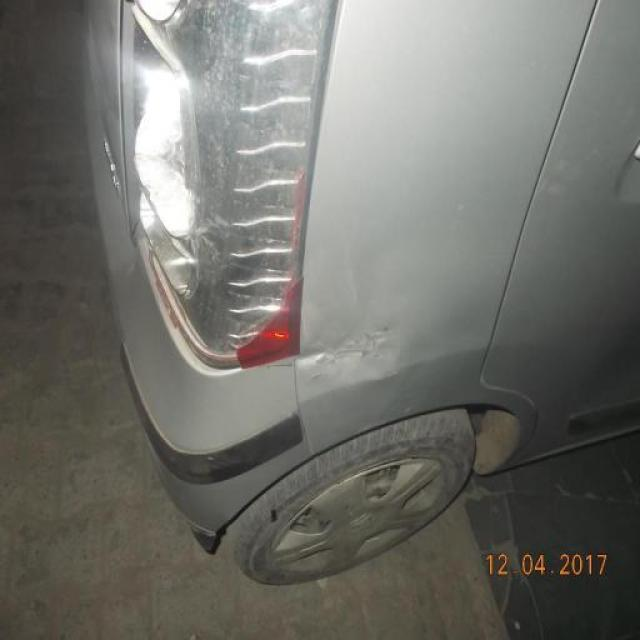crack: (124, 2, 341, 362)
dent: (297, 316, 405, 378)
